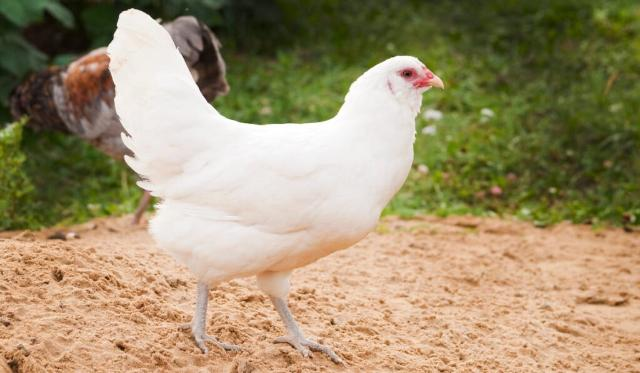Chicken: (107, 9, 447, 366), (21, 14, 231, 228)
